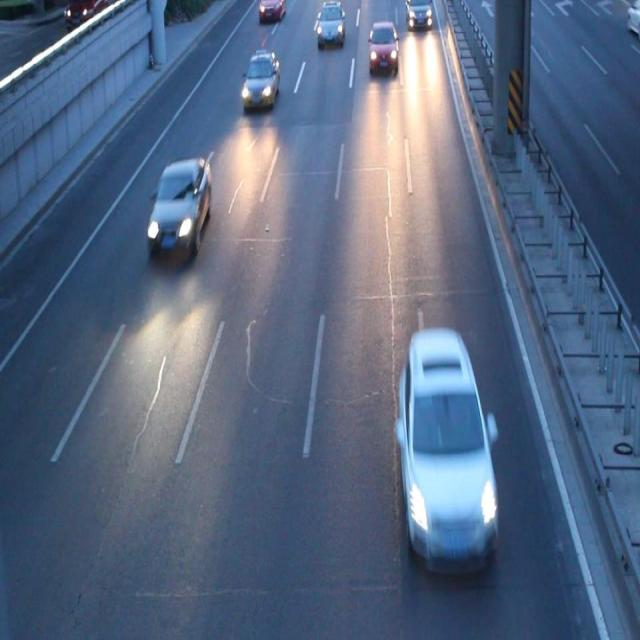car: (395, 331, 499, 566), (146, 156, 211, 256), (241, 49, 280, 109), (367, 22, 398, 74), (316, 1, 344, 46), (406, 1, 431, 29), (260, 1, 284, 22)
